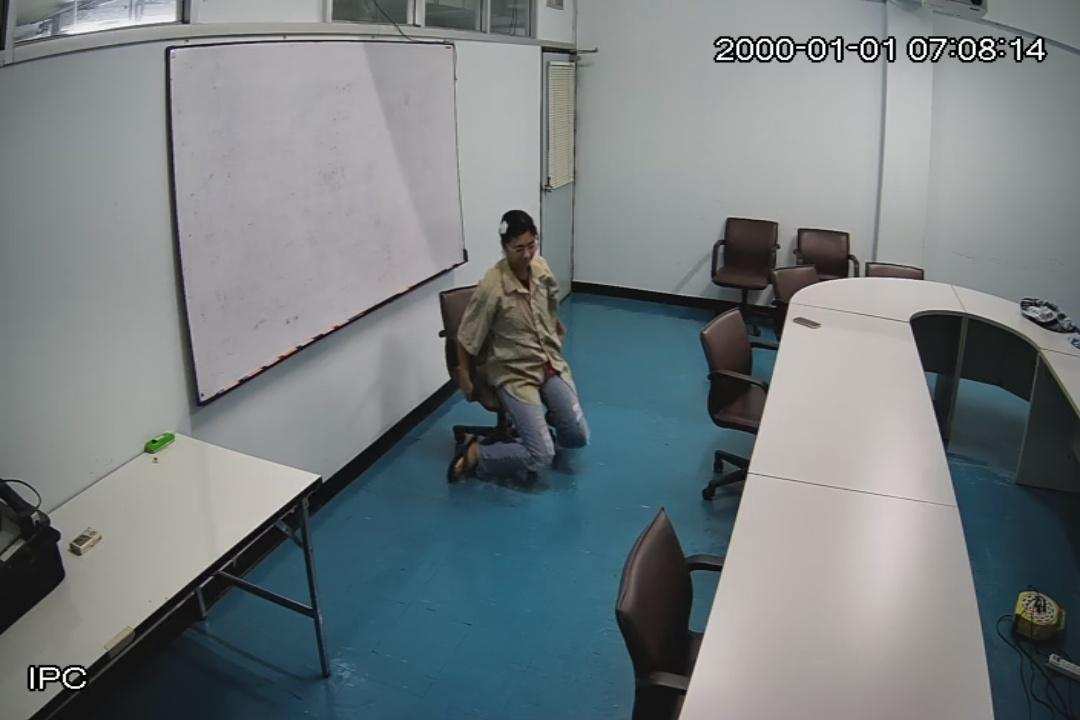normal: (446, 198, 590, 506)
